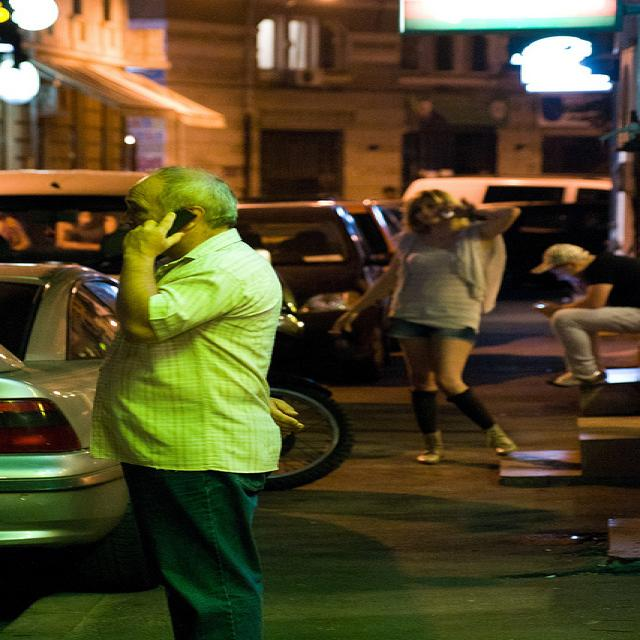motor: (265, 375, 357, 492)
